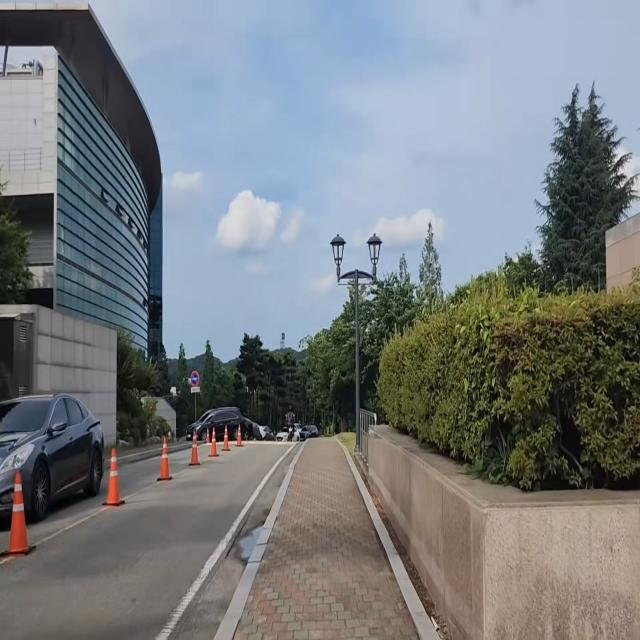obstacle: (0, 378, 114, 542), (5, 464, 38, 569), (96, 441, 132, 517)
road: (0, 441, 304, 640)
sidewalk: (212, 436, 445, 640)
